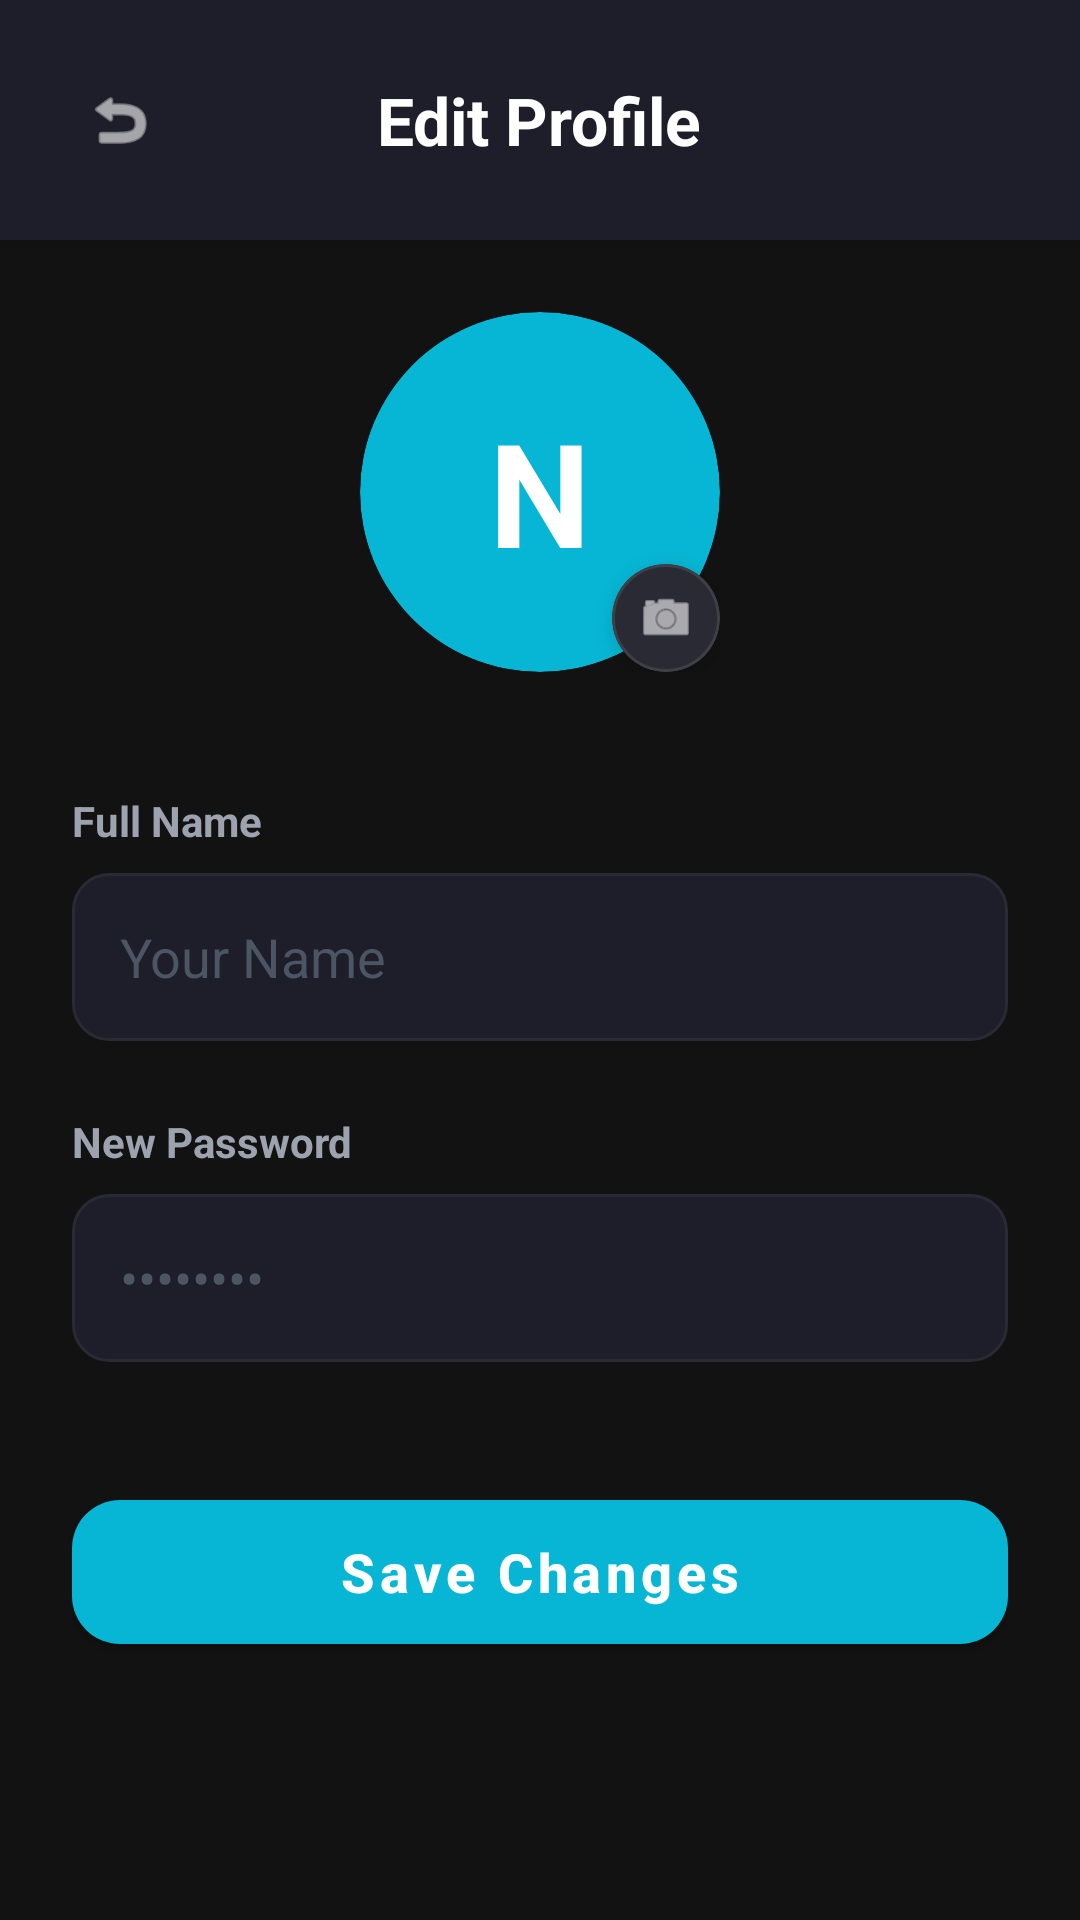

Point at icon controls on the screen. Image size 1080 x 1920, points as point (x, y).
Change Photo: point (666, 617)
Go Back: point (121, 120)
